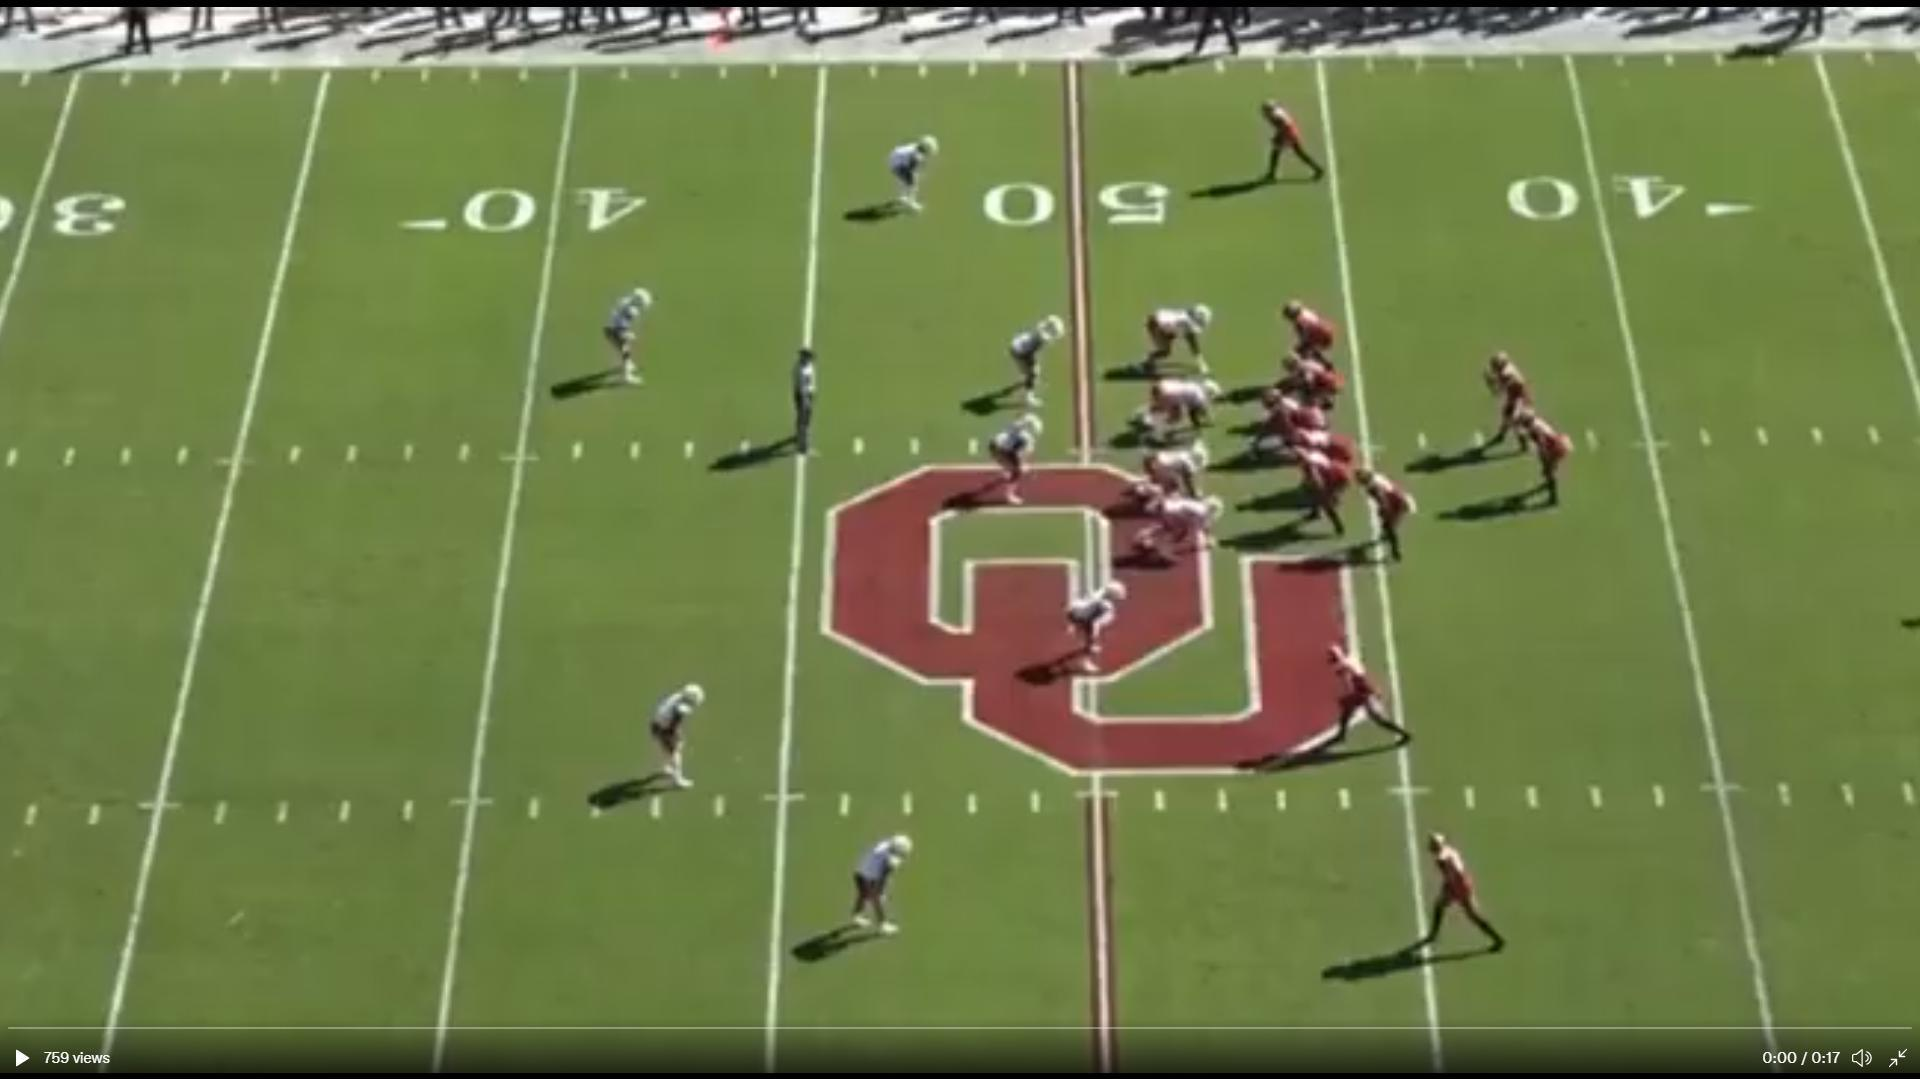player: (1409, 828, 1519, 971), (1309, 637, 1411, 758), (841, 826, 916, 947), (1354, 457, 1418, 583), (1252, 97, 1329, 193), (1521, 403, 1582, 520), (644, 677, 705, 793), (1131, 300, 1218, 380), (1129, 377, 1222, 451), (1134, 495, 1227, 566), (1005, 312, 1066, 416), (982, 413, 1044, 513), (1288, 446, 1352, 542), (1063, 579, 1122, 681), (605, 287, 660, 392), (1255, 387, 1332, 455), (1482, 350, 1532, 454), (882, 131, 939, 221), (1138, 445, 1214, 512), (1278, 349, 1343, 415), (1278, 297, 1341, 361), (1277, 418, 1356, 466)
ref: (791, 346, 831, 464)
